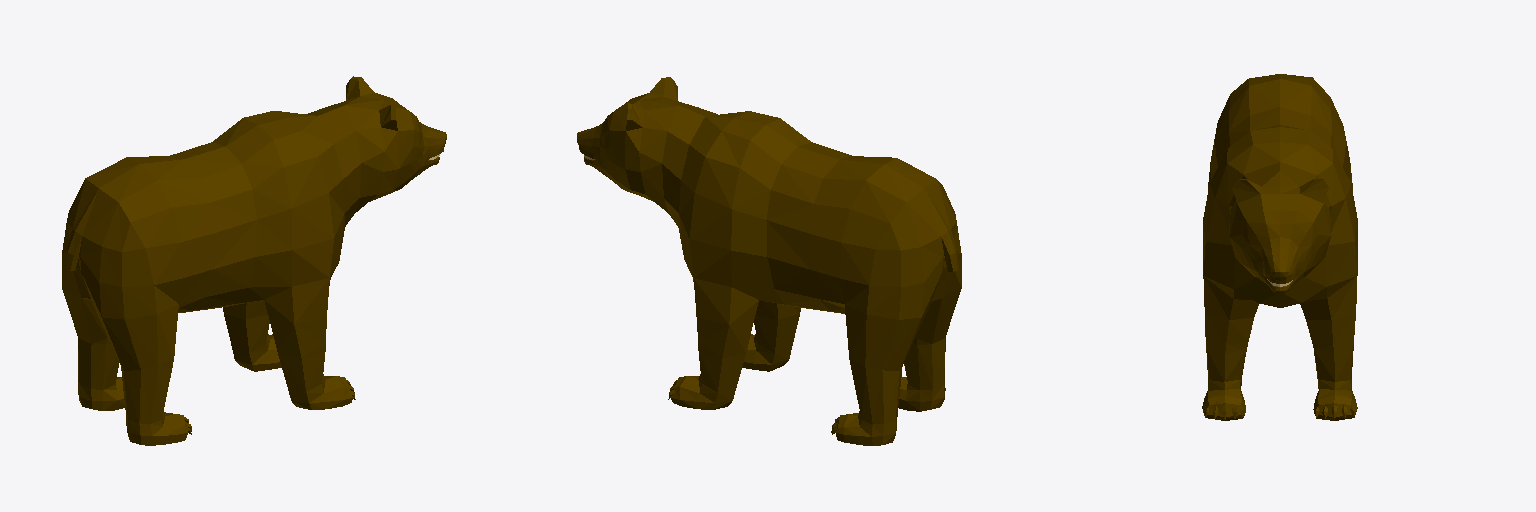
The model's file is Bear.obj.
The picture shows the model from 3 angles: view 1: azimuth 30°, elevation 25°; view 2: azimuth 150°, elevation 25°; view 3: azimuth 270°, elevation 25°; orthographic projection.
Visible parts, largest first — view 1: Bear; view 2: Bear; view 3: Bear.
Boxes of the visible parts, box(x1,y1,x2,y2) form: Bear: box(62, 76, 446, 445); Bear: box(577, 77, 961, 445); Bear: box(1202, 74, 1357, 420).
Size of the model in its own units: 286 by 196 by 102.